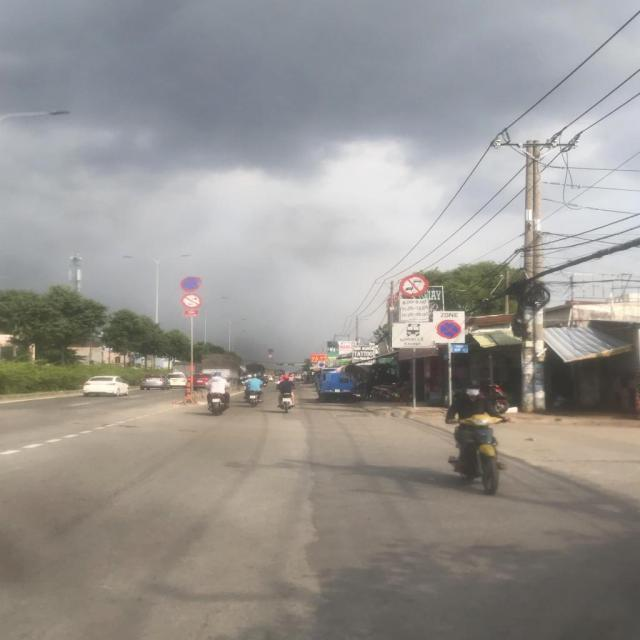107-cam-oto-khach-va-oto-tai: (399, 274, 429, 298)
130-cam-dung-va-do-xe: (436, 320, 462, 340)
